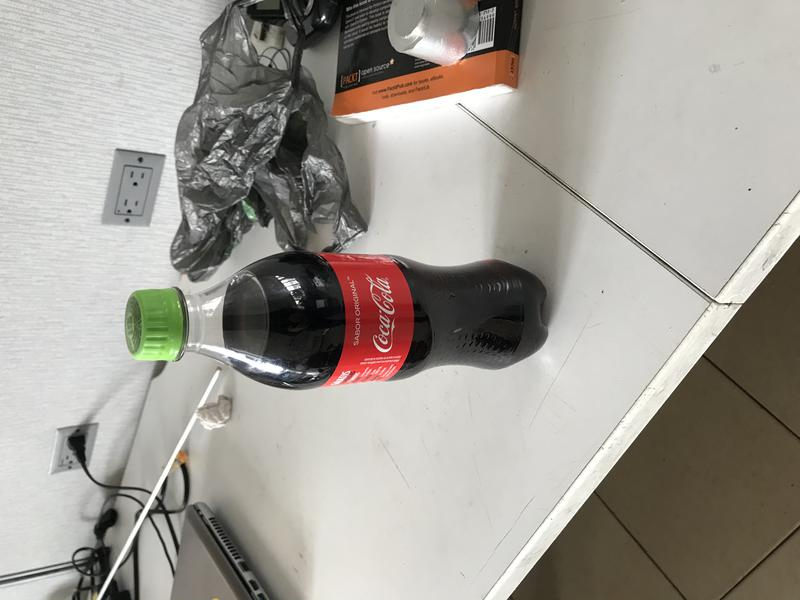coca_cola: (124, 251, 550, 391)
